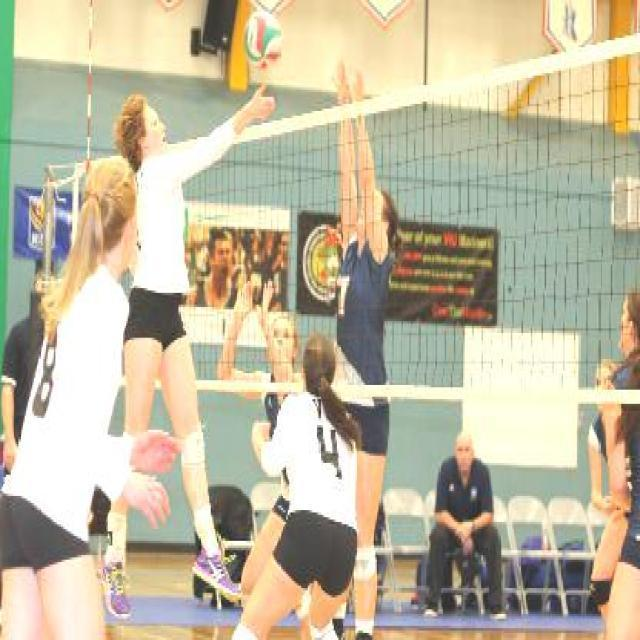volleyball: (244, 11, 284, 68)
